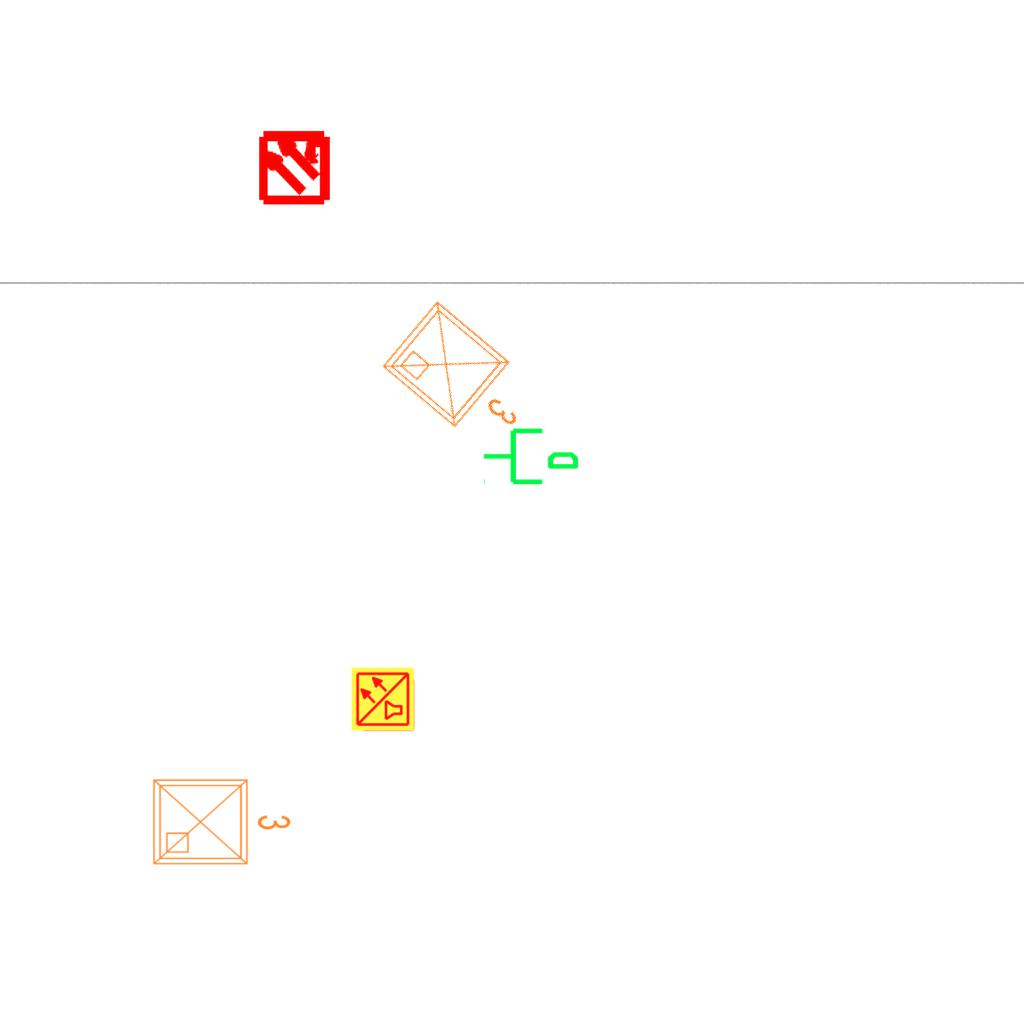Datenanschluss_einfach: (481, 420, 581, 489)
Einbaudownlights_LED_Konferenzraeume: (372, 287, 554, 465), (146, 768, 296, 872)
OKW_Multisensormelder_(Kombination_optischer_Rauch-Kahlenmonoxid_Waerme-Melder): (350, 666, 416, 732)
OT_Multisensormelder_(Kombination_RMO_WMD): (238, 109, 351, 222)
